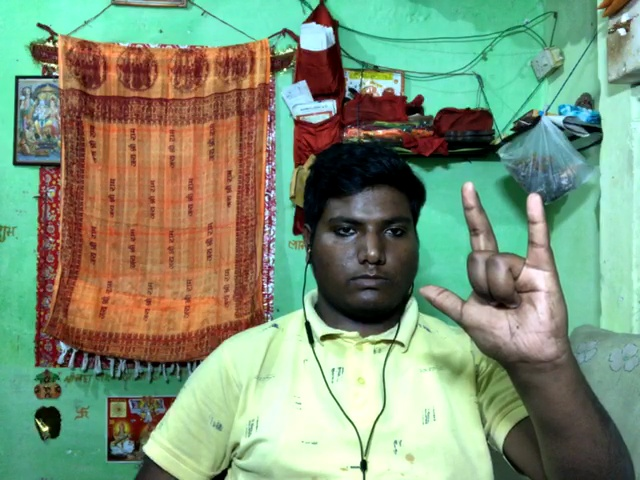I Love You: (416, 170, 582, 377)
